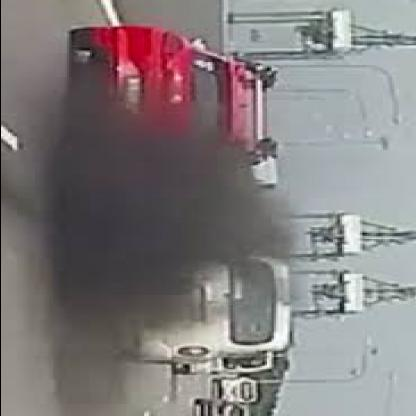Smoke: (80, 142, 280, 264)
